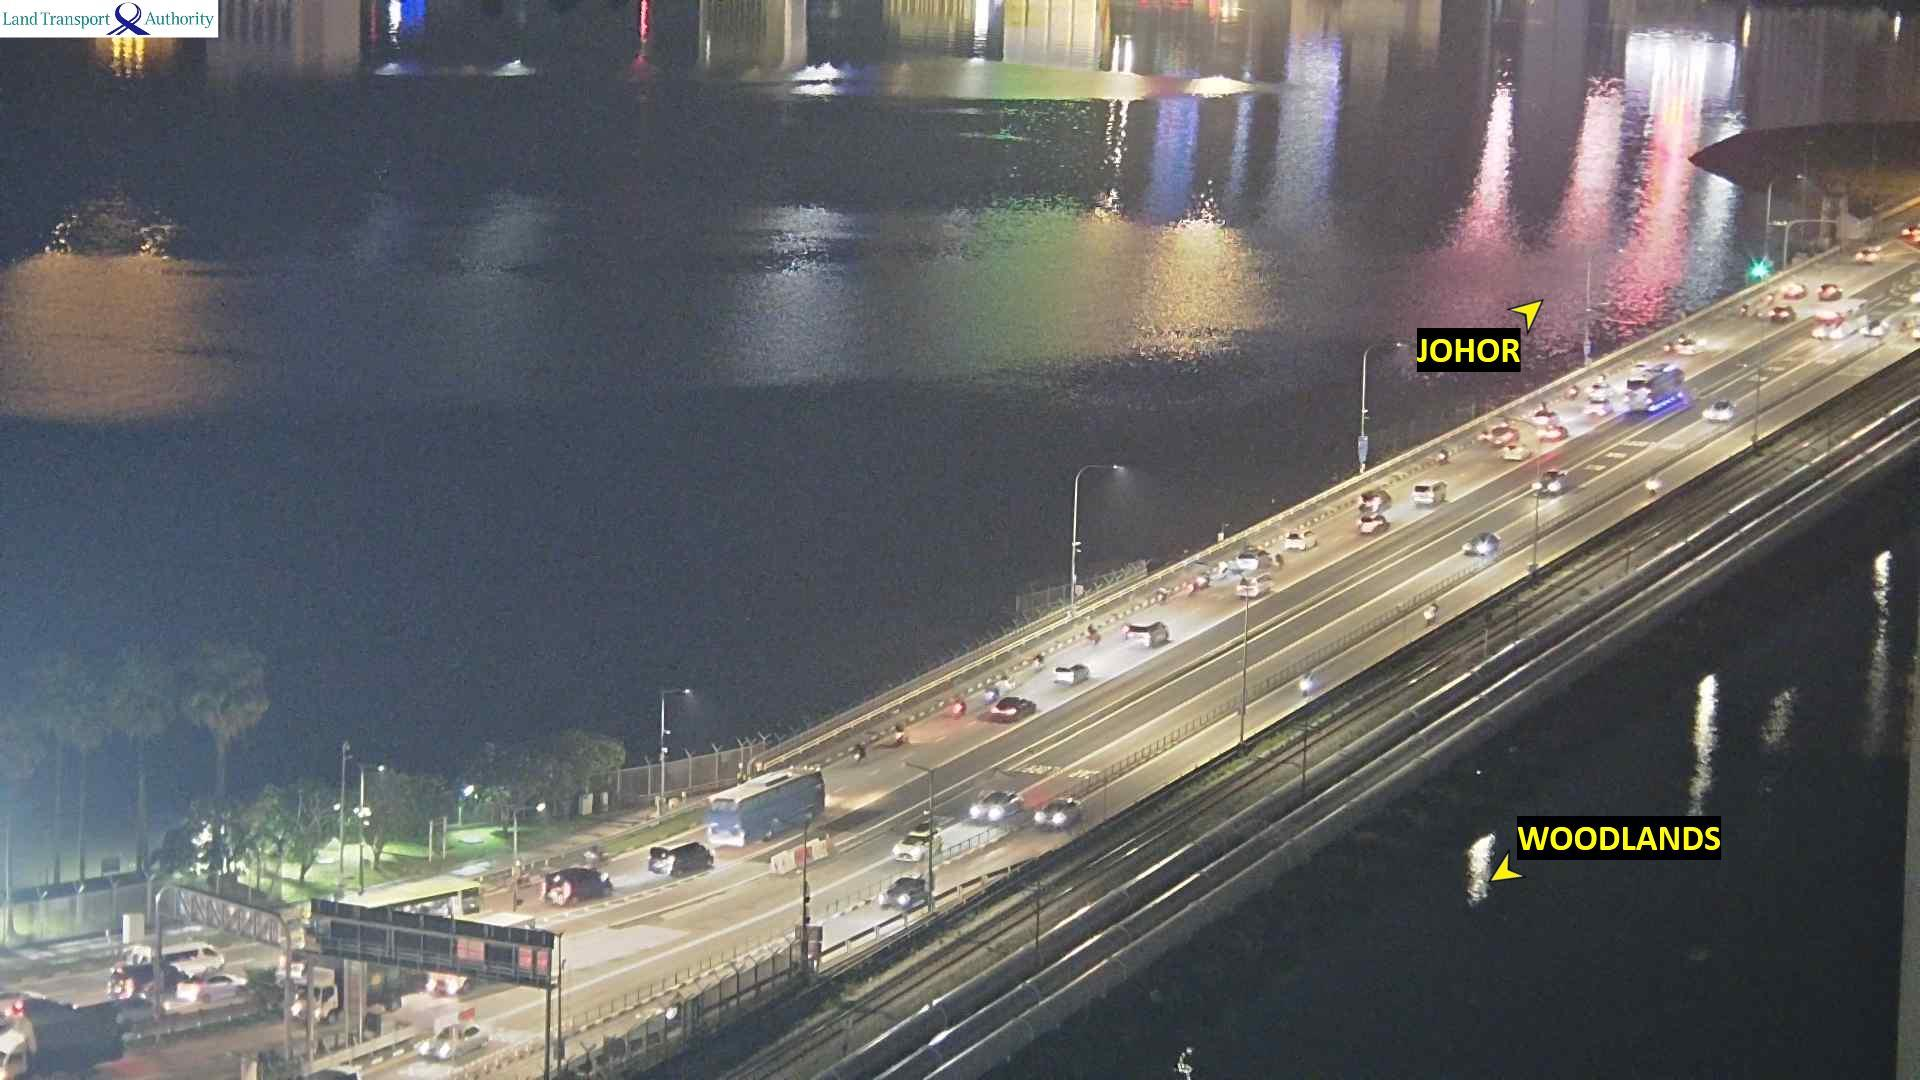vehicle-causeway-johor: (708, 771, 827, 836), (124, 944, 224, 976), (108, 964, 187, 1000), (537, 868, 611, 901), (1626, 368, 1685, 409), (179, 973, 245, 1004), (651, 844, 712, 876), (1124, 620, 1168, 646), (436, 889, 481, 911), (1229, 549, 1271, 572), (996, 699, 1036, 721), (1236, 572, 1271, 597), (1360, 489, 1395, 513), (1411, 481, 1447, 505), (1286, 530, 1319, 553), (1055, 663, 1089, 684), (1357, 513, 1390, 534), (1486, 425, 1518, 446), (1584, 381, 1617, 401), (1538, 426, 1569, 442), (1188, 574, 1211, 593), (1582, 400, 1613, 414), (1530, 409, 1557, 425), (1505, 443, 1530, 460), (1857, 245, 1879, 264), (1772, 306, 1795, 323), (1784, 284, 1807, 299), (1818, 284, 1841, 299), (1681, 339, 1701, 356), (985, 683, 1000, 703), (997, 674, 1017, 688), (1087, 625, 1100, 644), (955, 698, 965, 719), (895, 723, 905, 745), (1568, 386, 1582, 400), (853, 744, 864, 760), (1035, 650, 1043, 671), (1156, 587, 1167, 600), (1439, 450, 1449, 463), (1742, 303, 1749, 314)
vehicle-causeway-singapore: (0, 1002, 111, 1080), (294, 965, 398, 1015), (423, 1015, 484, 1059), (1811, 302, 1869, 342), (971, 790, 1022, 820), (880, 878, 924, 910), (897, 827, 938, 860), (1038, 799, 1083, 828), (1460, 533, 1499, 556), (1532, 471, 1567, 496), (1704, 402, 1734, 423), (1862, 318, 1888, 335), (1299, 673, 1317, 696), (1424, 599, 1441, 624)
